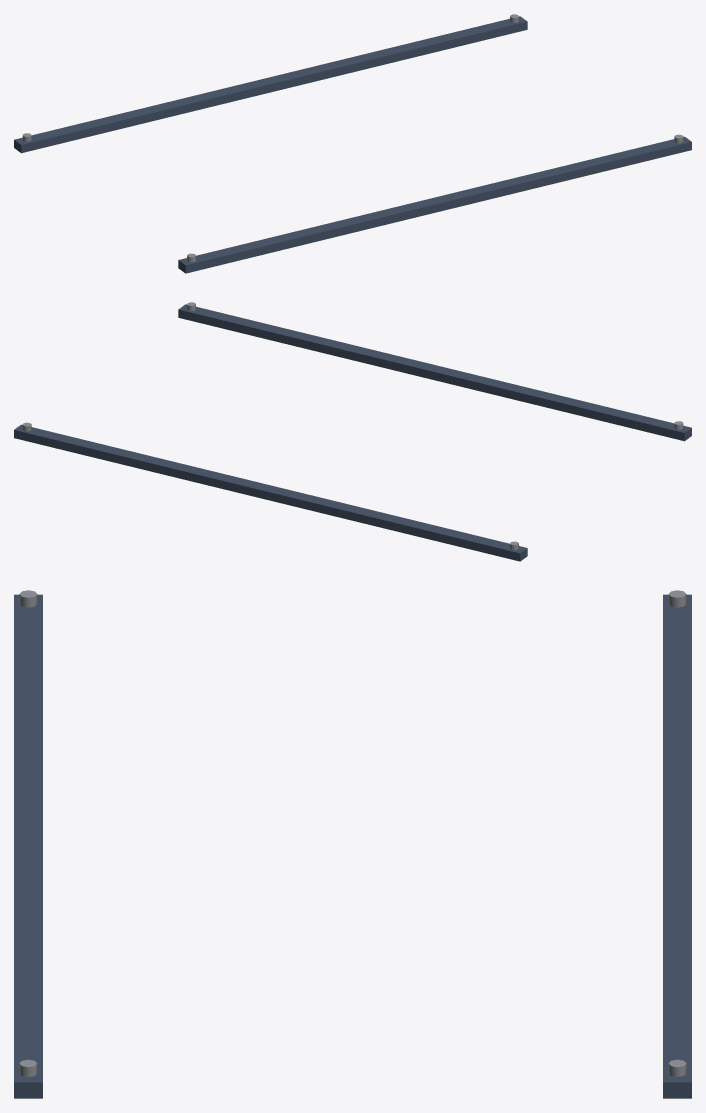
The model's file is ms1_mounts.obj.
3 views of the same model, one above another, from view 1: azimuth 30°, elevation 25°; view 2: azimuth 150°, elevation 25°; view 3: azimuth 270°, elevation 25° (orthographic). The views are drawn at different scales.
Visible parts, largest first — view 1: ms1_mounts; view 2: ms1_mounts; view 3: ms1_mounts.
Part boxes in pixels (box(x1,y1,x2,y2)): ms1_mounts: box(14, 14, 691, 273); ms1_mounts: box(14, 302, 691, 561); ms1_mounts: box(14, 590, 691, 1098).
Bounding box in the file's own units: 6.4 × 0.16 × 3.76.
